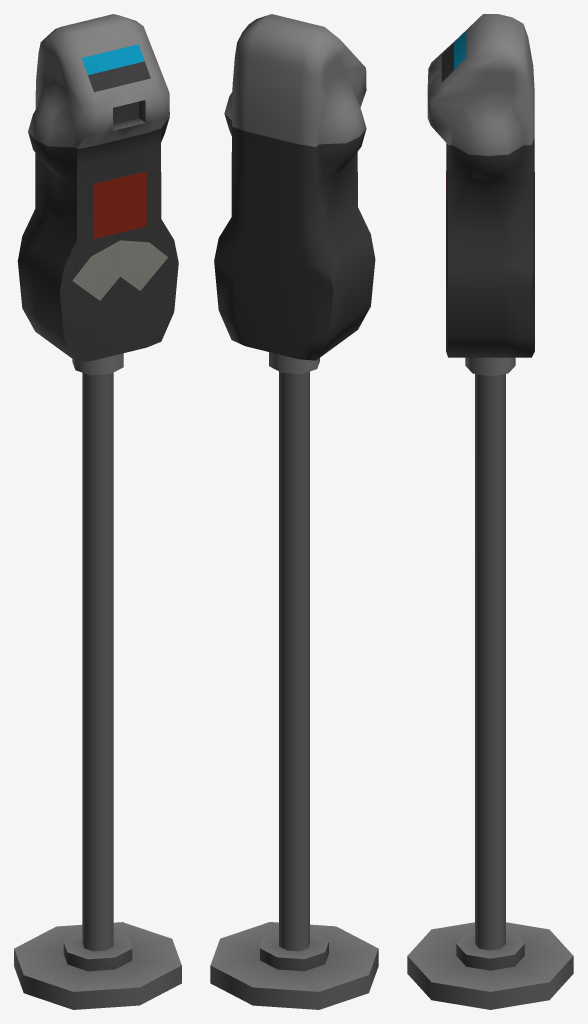
Rendered from ParkingMeter_Regular.fbx.
The picture shows the model from 3 angles, left to right: view 1: azimuth 30°, elevation 25°; view 2: azimuth 150°, elevation 25°; view 3: azimuth 270°, elevation 25°; orthographic projection.
Visible parts, largest first — view 1: ParkingMeter_Regular; view 2: ParkingMeter_Regular; view 3: ParkingMeter_Regular.
Boxes of the visible parts, left/top/right/bottom form: ParkingMeter_Regular: left=14, top=14, right=181, bottom=1009; ParkingMeter_Regular: left=210, top=14, right=378, bottom=1009; ParkingMeter_Regular: left=407, top=14, right=573, bottom=1009.
Bounding box in the file's own units: 20.33 × 124 × 19.73.
